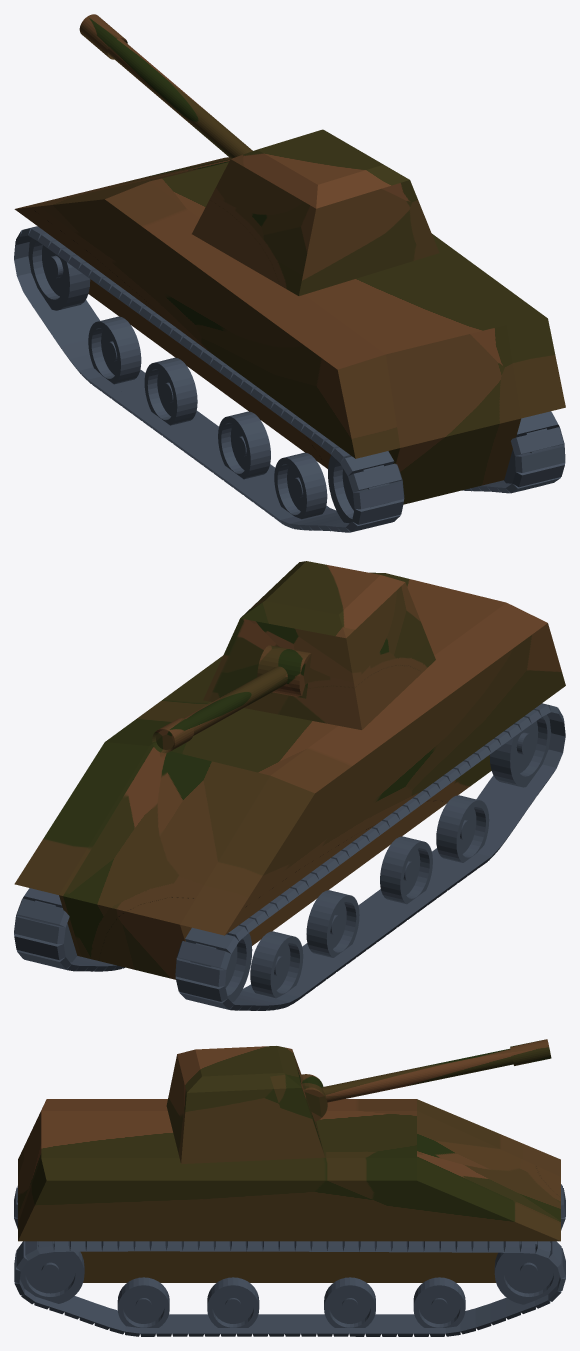
Rendered from tank.fbx.
3 renders of one model, top to bottom at view 1: azimuth 30°, elevation 25°; view 2: azimuth 150°, elevation 25°; view 3: azimuth 270°, elevation 25°, orthographic. The views are drawn at different scales.
Parts seen in each view (by area): view 1: Tank, Turret, Tread, Wheeks, Barrel, Tread.001; view 2: Tank, Turret, Tread, Wheeks, Tread.001, Barrel, BarrelPivot; view 3: Tank, Tread.001, Turret, Wheeks.001, Barrel, BarrelPivot.
Part boxes in pixels (bbox=[...]): Tank: bbox=[14, 157, 565, 504]; Turret: bbox=[192, 129, 439, 295]; Tread: bbox=[14, 226, 404, 532]; Wheeks: bbox=[28, 238, 389, 528]; Barrel: bbox=[79, 14, 252, 158]; Tread.001: bbox=[462, 411, 565, 493]; Tank: bbox=[14, 572, 565, 979]; Turret: bbox=[203, 561, 435, 729]; Tread: bbox=[175, 703, 565, 1010]; Wheeks: bbox=[190, 714, 551, 1001]; Tread.001: bbox=[14, 888, 124, 971]; Barrel: bbox=[152, 666, 287, 753]; BarrelPivot: bbox=[257, 645, 311, 698]; Tank: bbox=[18, 1099, 560, 1282]; Tread.001: bbox=[14, 1241, 565, 1336]; Turret: bbox=[166, 1046, 324, 1163]; Wheeks.001: bbox=[20, 1241, 559, 1327]; Barrel: bbox=[322, 1039, 551, 1102]; BarrelPivot: bbox=[300, 1074, 327, 1121].
Size of the model in its own units: 7.15 by 9.87 by 20.33.
